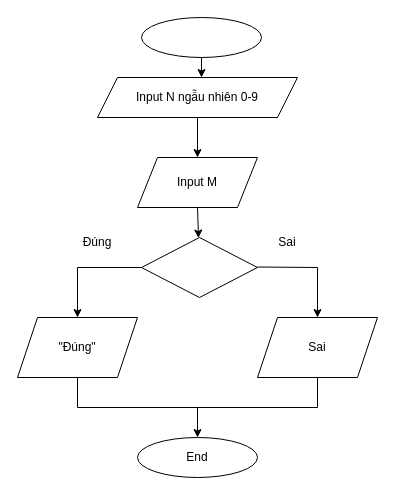
This 395x495 diagram has some shape labels left out. The shapes that lost their labels are listed below. From the top down, each one's centre as x and y in pixels, then its label:
At [201,37]: "Begin".
At [199,267]: "If N==M".
